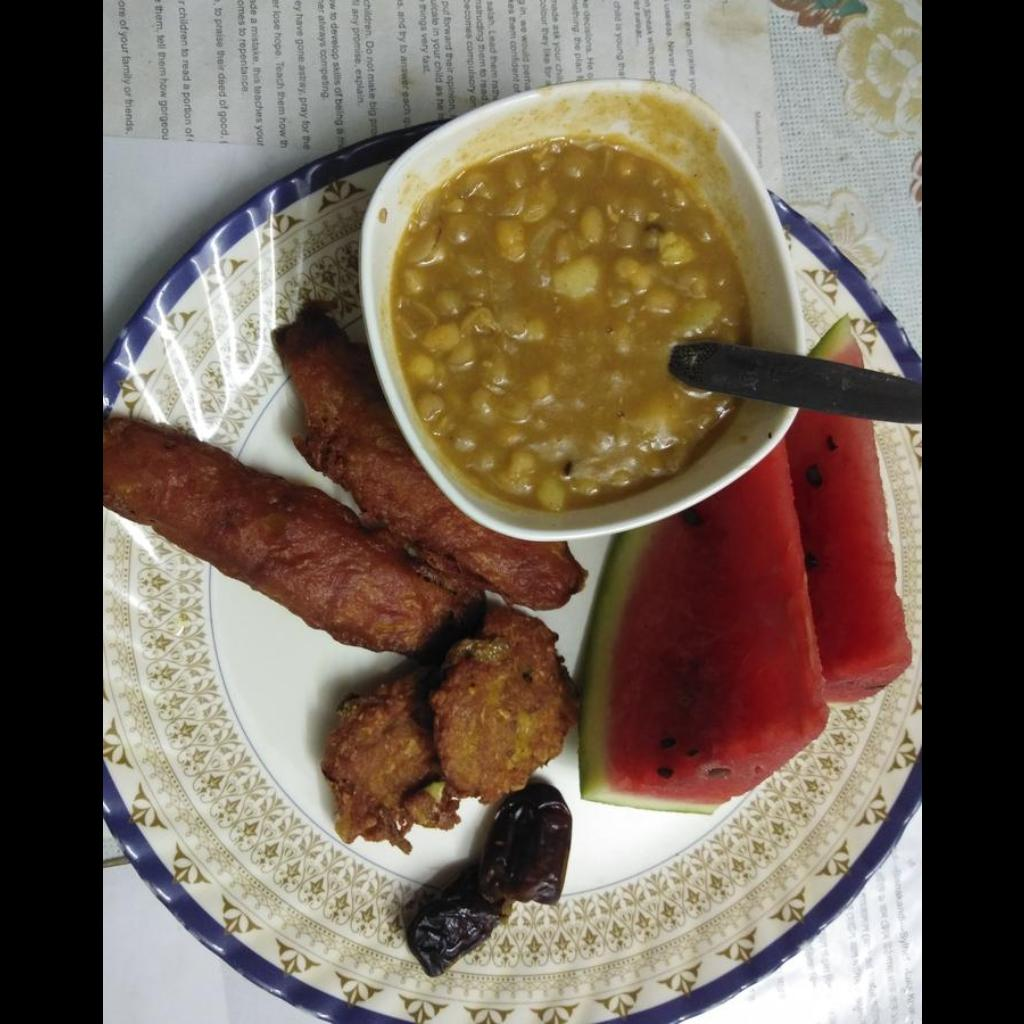beguni: (102, 300, 587, 651)
daal: (400, 139, 736, 499)
dates: (402, 790, 570, 982)
peyaju: (316, 616, 561, 844)
watermelon: (581, 425, 904, 816)
